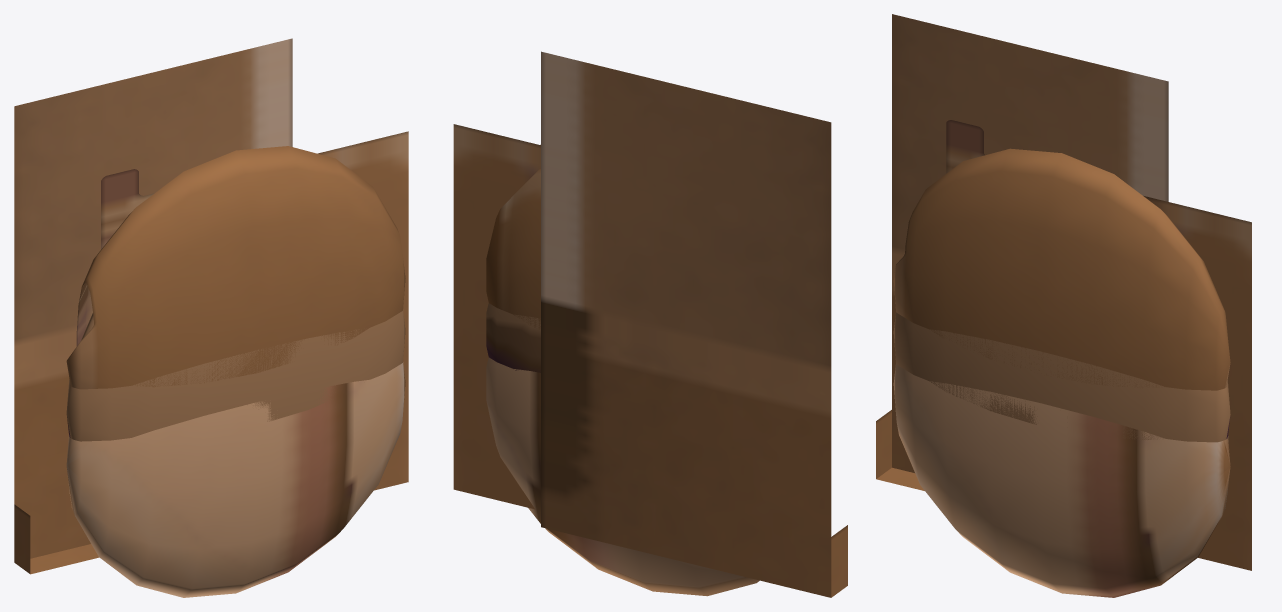
The model's file is section-7.obj.
The picture shows the model from 3 angles, left to right: view 1: azimuth 30°, elevation 25°; view 2: azimuth 150°, elevation 25°; view 3: azimuth 330°, elevation 25°; orthographic projection. The views are drawn at different scales.
Bounding box in the file's own units: 0.8398 × 1.1 × 0.1793.
